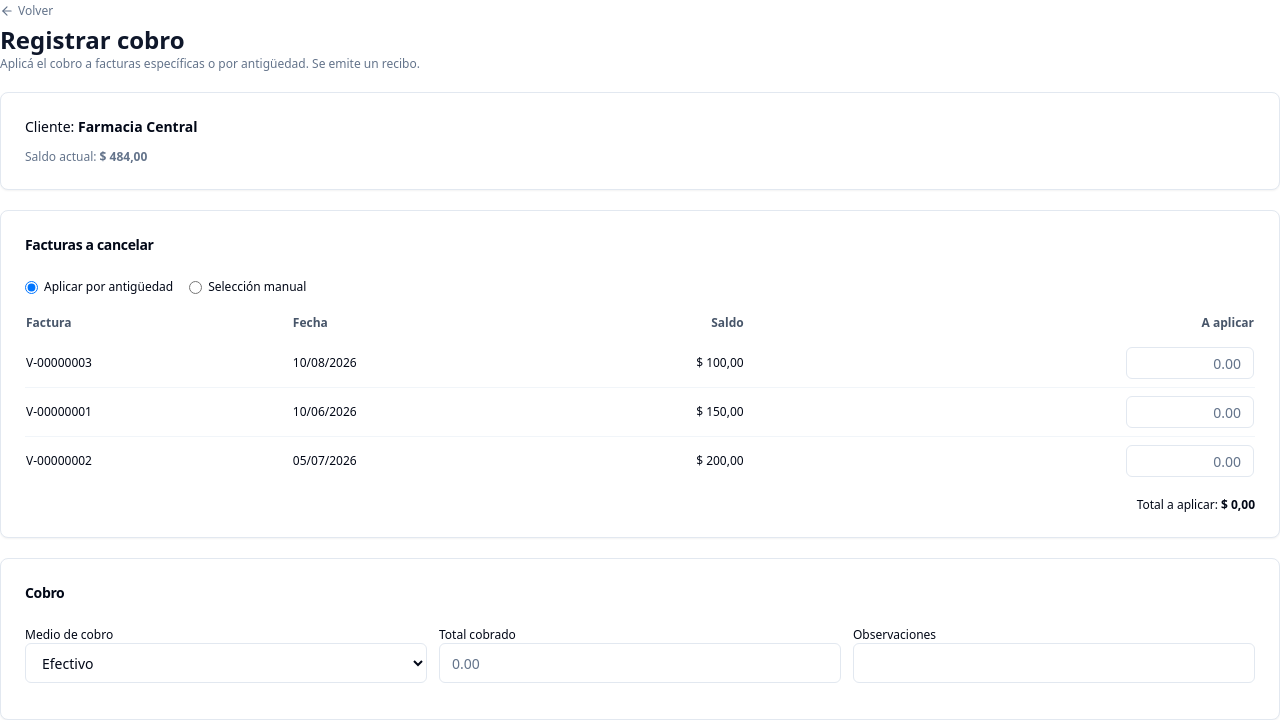
Test: PaymentFormPage › fills the inputs oldest first when applying by age
expect the text "V-00000001" is shown: met, box [25,388,292,436]
Type "250.00" into the field labelled "Total cobrado".
click(640, 663); type("250.00")  # box [439,643,841,683]
(page scrolled)
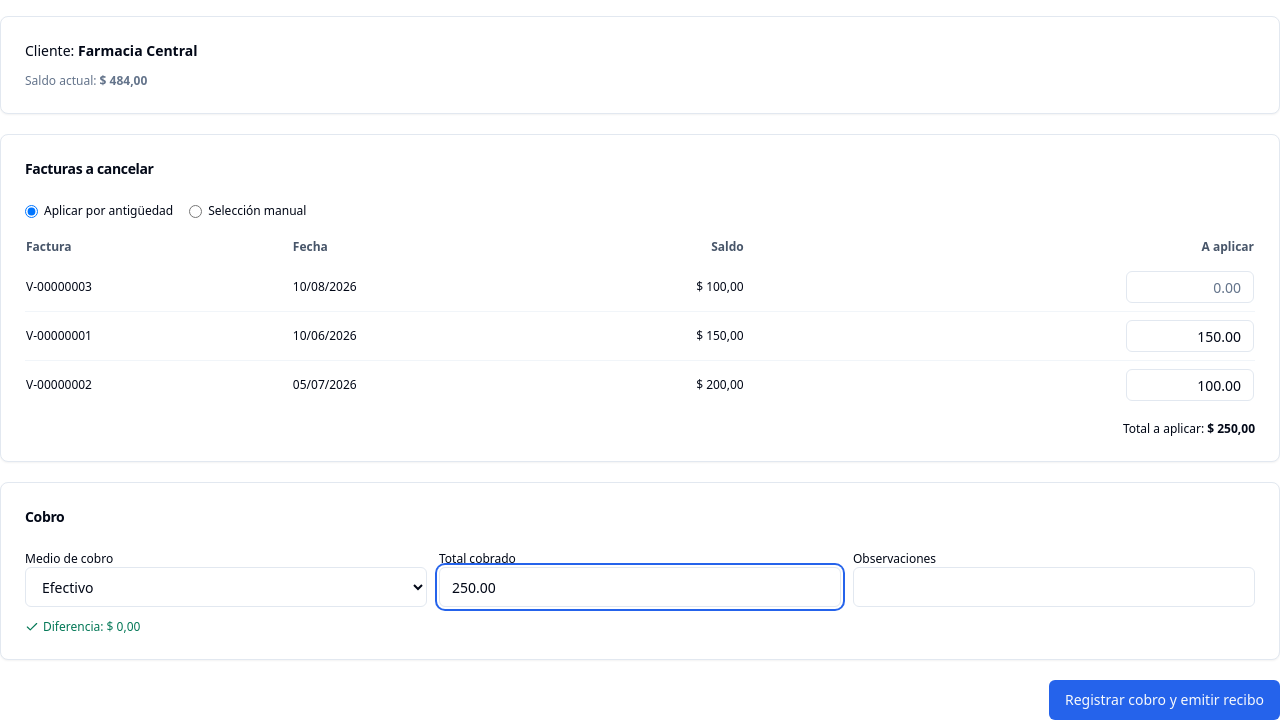
expect the button "Registrar cobro y emitir recibo" is enabled: met, box [1049,680,1279,719]
